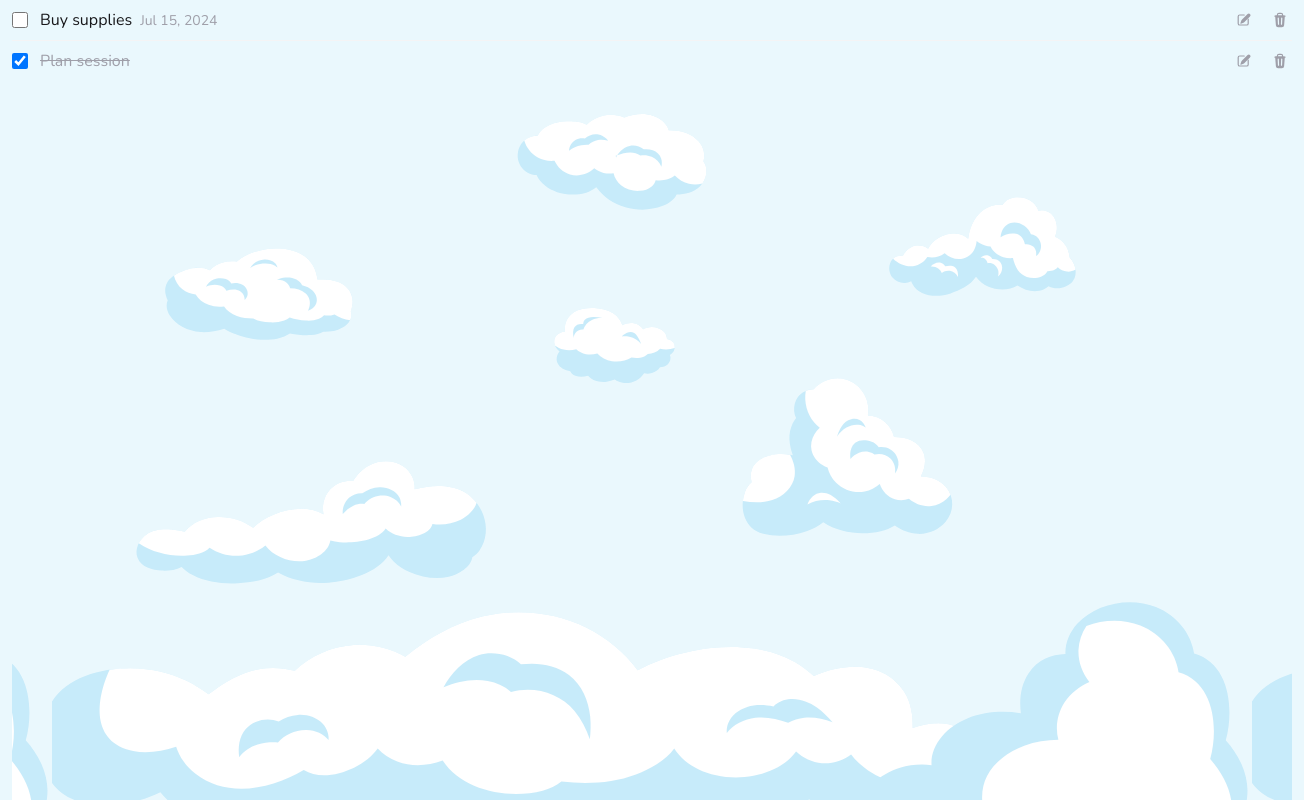
it: ProjectTodoList › shows error on failed PATCH
What coordinates should you click on to do the following:
click the button named "Edit \"Buy supplies\""
I would click on:
 (1244, 20)
Its box is [1232,8,1256,32].
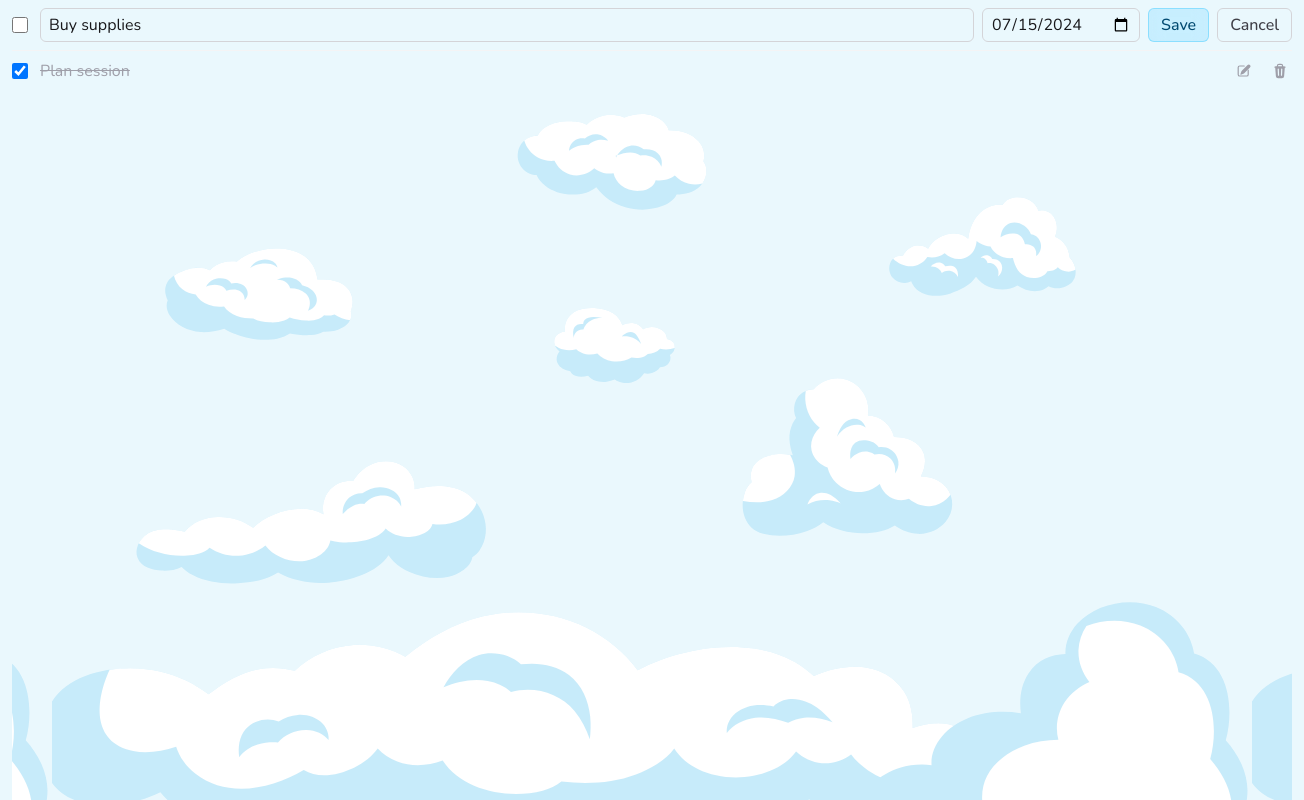
What coordinates should you click on to do the following:
click the button "Save"
I would click on:
 (1179, 25)
Its box is [1148,8,1209,42].
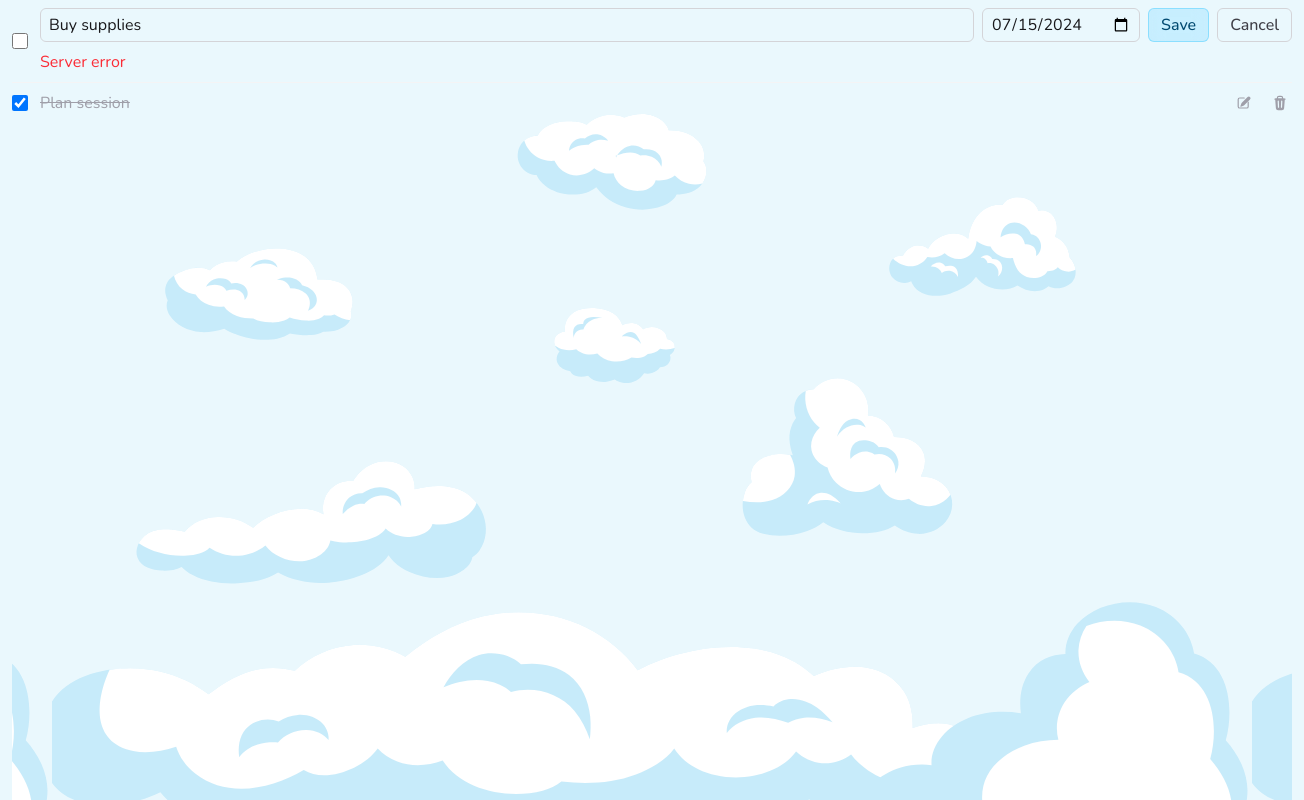
Expected: the text "Server error" is shown, [40,51,126,73]
